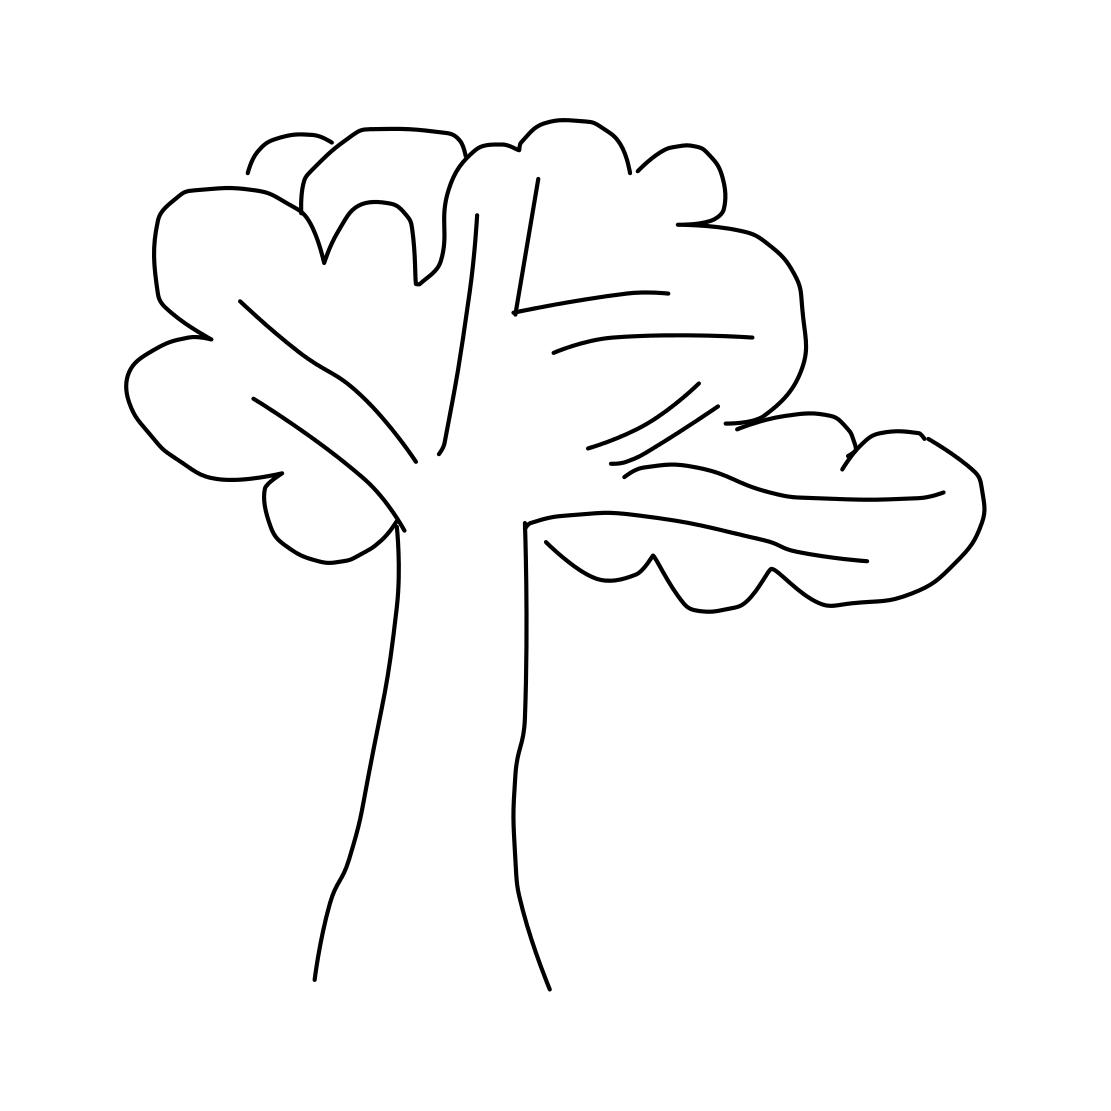Tree: (71, 30, 995, 1009)
